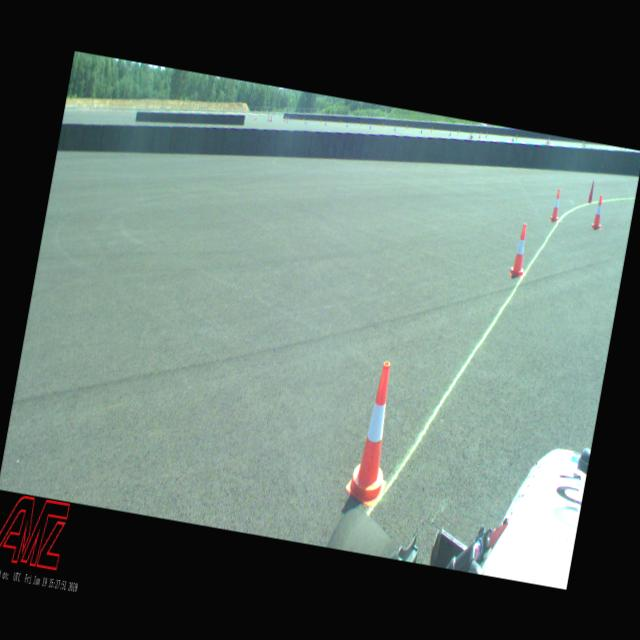blue_cone: (582, 140, 586, 147), (448, 128, 451, 136), (511, 134, 514, 141), (369, 122, 371, 129), (394, 125, 396, 132), (325, 120, 327, 126), (346, 121, 348, 127), (420, 127, 422, 133), (304, 119, 306, 124)
orange_cone: (344, 358, 408, 507), (508, 222, 531, 279), (590, 194, 606, 230), (548, 188, 562, 222), (267, 113, 270, 122), (270, 114, 273, 122), (478, 132, 481, 138), (253, 114, 256, 120), (485, 130, 487, 138), (546, 138, 548, 144), (255, 114, 257, 120), (284, 115, 285, 122)
unknown_cone: (587, 180, 595, 202)
yellow_cone: (319, 118, 322, 124), (359, 120, 362, 126), (456, 128, 458, 136), (405, 125, 407, 132), (381, 122, 383, 128), (430, 127, 432, 133), (516, 134, 518, 140), (582, 141, 584, 147), (302, 117, 304, 122), (339, 120, 341, 125), (285, 116, 287, 120)
